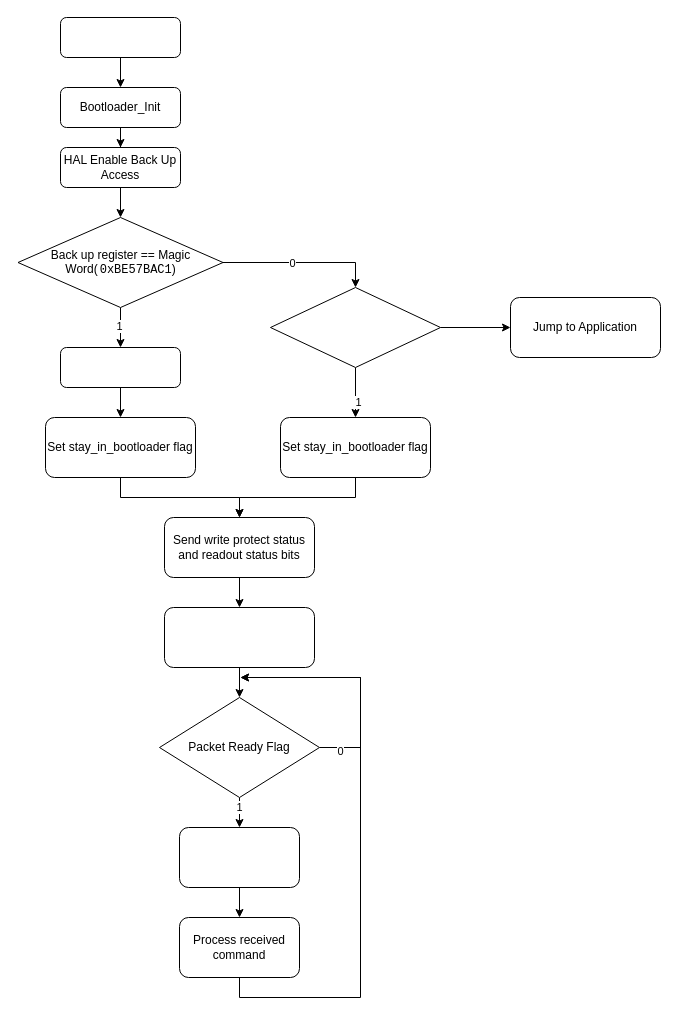
Some shapes in this 678 by 1023 pixel diagram are drawn without their labels. The box of each missing label's shape, as (x1, y1, x2, y2) in pixels:
HAL_Init: (60, 16, 180, 58)
Is USER Button pressed: (270, 286, 440, 368)
Reset back up register: (60, 346, 180, 388)
Reset packetReadyFlag: (178, 826, 300, 888)
RX Interrupt: (164, 606, 314, 668)
